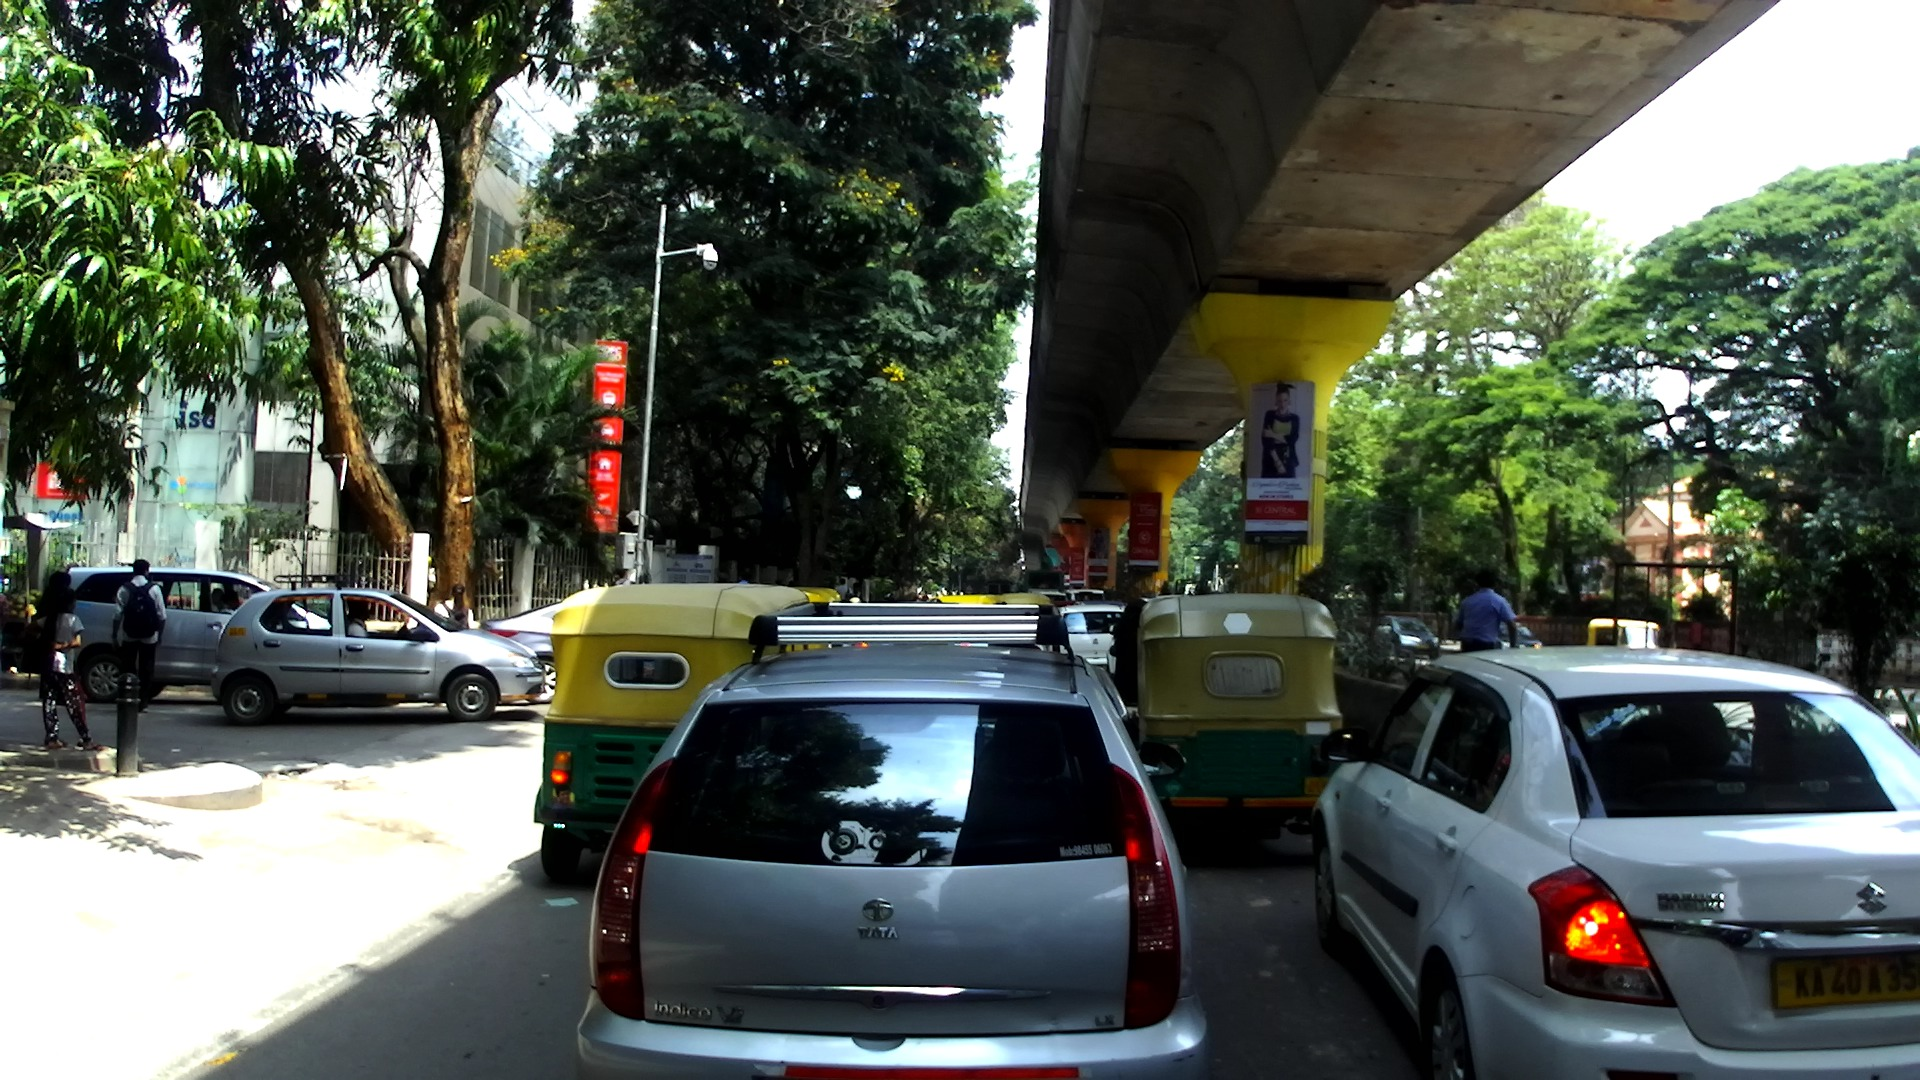autorickshaw: (535, 582, 811, 883), (1135, 596, 1347, 859), (1586, 616, 1661, 657), (792, 584, 841, 616), (999, 593, 1058, 618), (935, 594, 1004, 609)
bus: (1022, 569, 1066, 595)
car: (573, 605, 1213, 1080), (1310, 648, 1920, 1080), (209, 573, 546, 726), (59, 566, 283, 705), (479, 600, 603, 704), (1054, 603, 1137, 680), (1379, 617, 1440, 664), (1492, 620, 1543, 654), (1026, 586, 1069, 610), (1061, 588, 1106, 608)
person: (25, 588, 107, 751), (112, 557, 165, 713), (1109, 601, 1150, 750), (1454, 567, 1519, 658), (34, 571, 80, 698), (433, 580, 474, 632), (1689, 610, 1703, 648), (833, 578, 849, 603), (847, 582, 862, 603), (736, 573, 752, 586), (920, 591, 929, 603), (786, 581, 796, 588), (775, 579, 783, 587)
vehicle fallback: (1, 516, 74, 674), (1074, 601, 1128, 610), (1174, 574, 1198, 594), (986, 581, 1013, 598), (1063, 580, 1086, 593), (1051, 600, 1077, 610), (882, 591, 893, 603)
